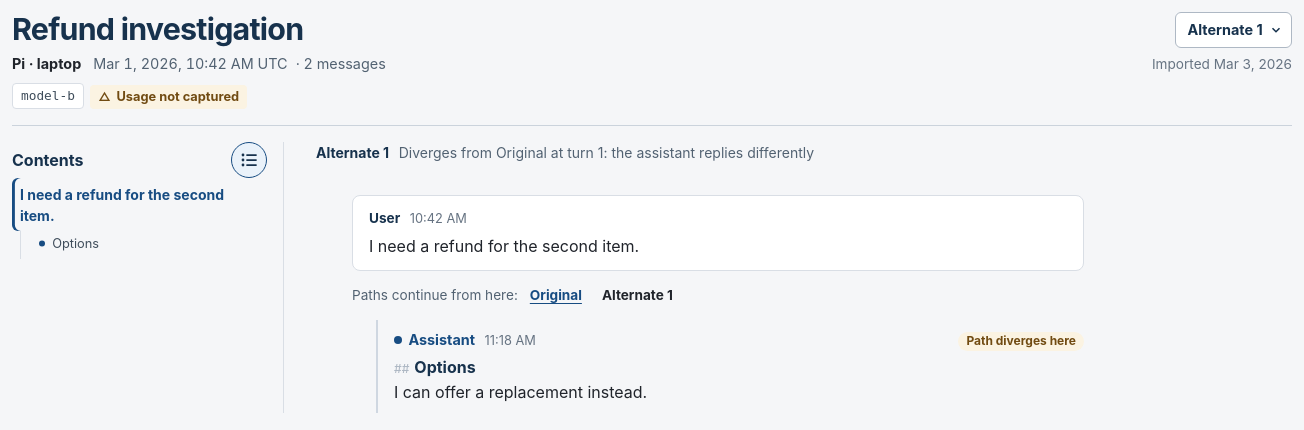
Test: conversation reader › describes how each path differs and switches from the picker
Click the button named "Path Alternate 1" at (1234, 30), box [1175,12,1292,48]
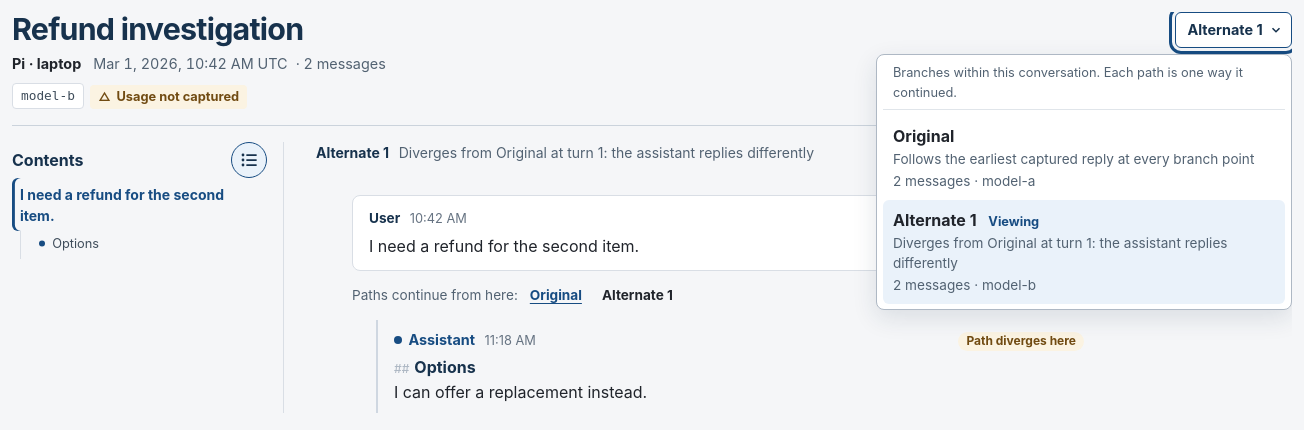
expect the list named "Paths" shows "Diverges from Original at turn 1: the assistant replies differently": met, box [883,200,1285,304]
expect the list named "Paths" shows "model-b": met, box [883,200,1285,304]
expect the list named "Paths" shows "Follows the earliest captured reply": met
Click the button "Original" at (1084, 158), box [883,116,1285,200]
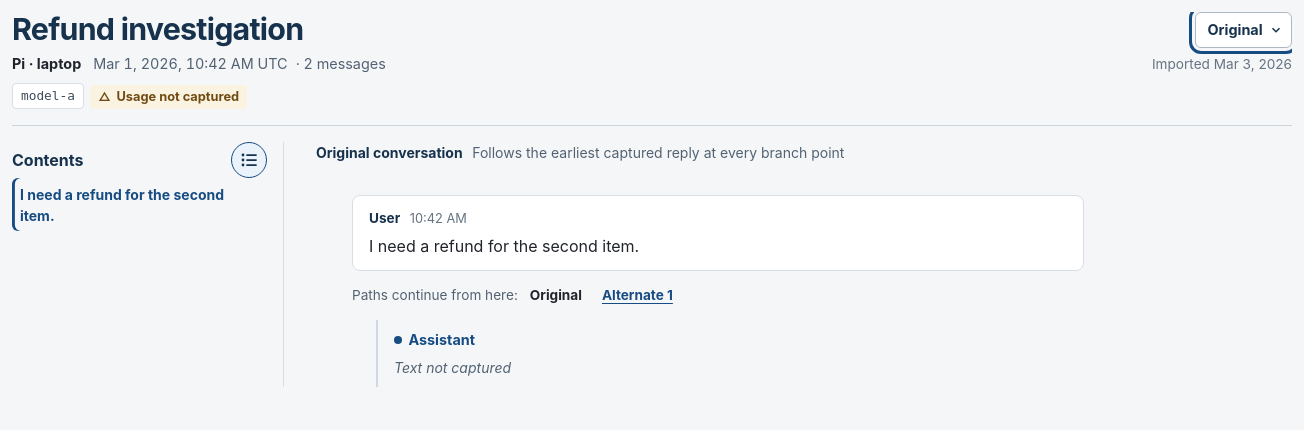
expect the button named "Path Alternate 1" is collapsed: met, box [1195,12,1292,48]
expect the text "Text not captured" is shown: met, box [394,358,511,376]
